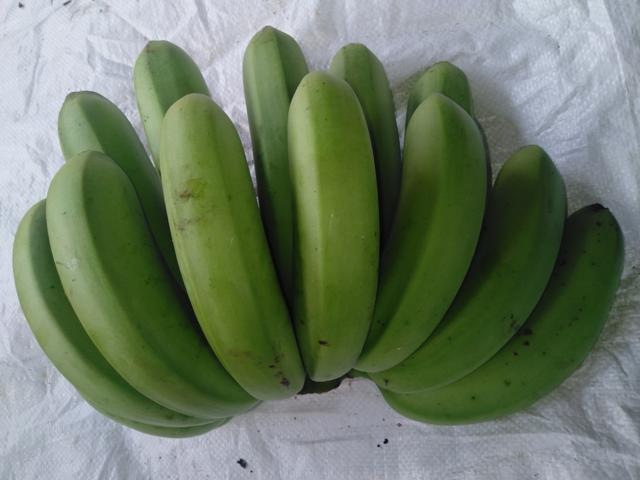freshunripe: (44, 149, 211, 443), (158, 91, 284, 424), (283, 55, 387, 400), (426, 140, 561, 399), (373, 79, 489, 374), (218, 8, 311, 209), (108, 30, 196, 137)
